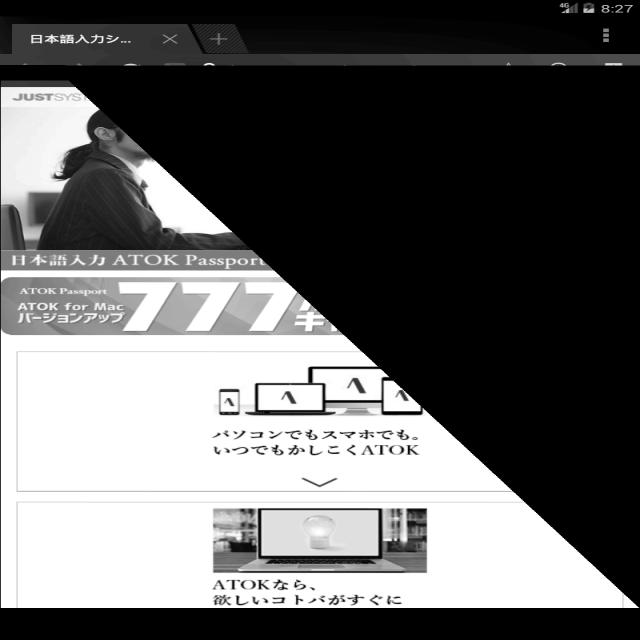ImageButton: (598, 27, 622, 48)
ImageView: (6, 276, 332, 336), (202, 354, 434, 420), (207, 504, 431, 572)
TextView: (208, 576, 406, 602), (208, 431, 422, 455), (5, 249, 262, 265), (21, 30, 138, 46)
